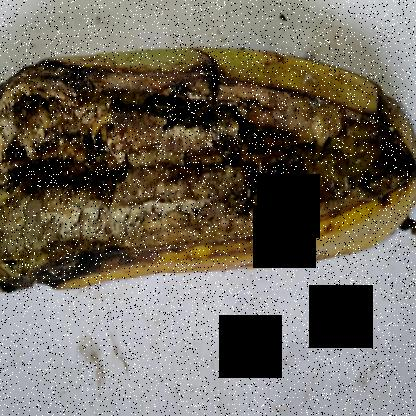rotten: (104, 45, 406, 247), (1, 22, 170, 319)
